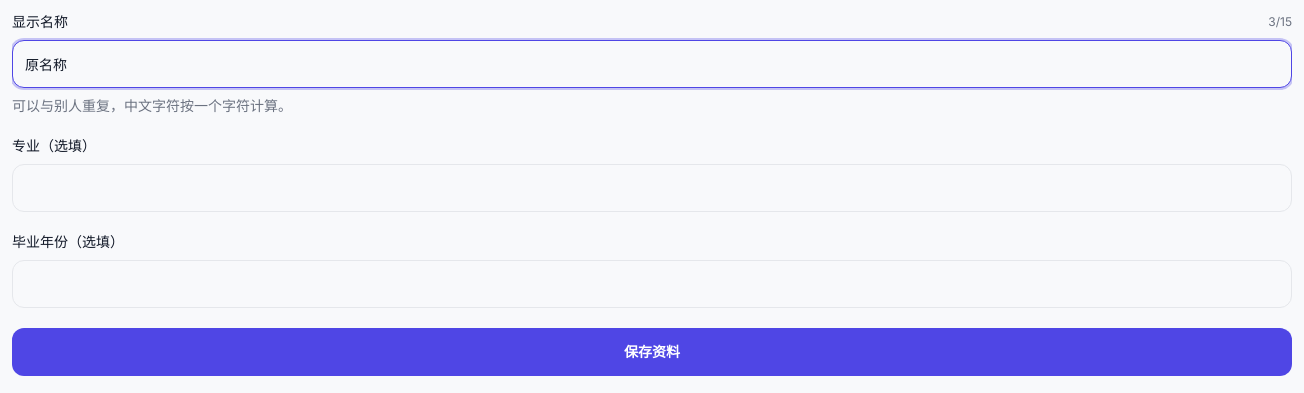
ProfileForm › 提供 15 字即时限制并展示服务端字段错误
Replace the text in the field labelled "显示名称" with "一二三四五六七八九十一二三四五六": (652, 64) [12,40,1292,88]
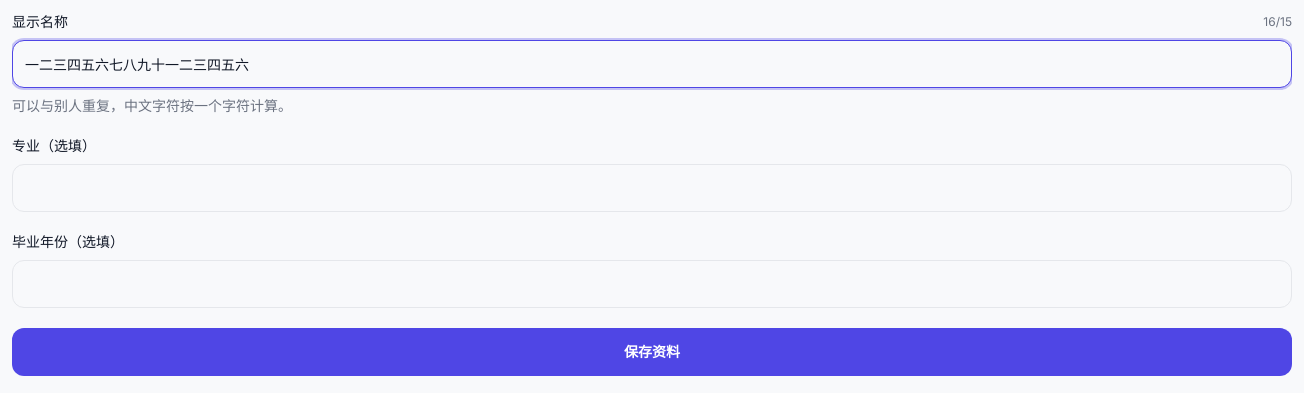
Submit the form
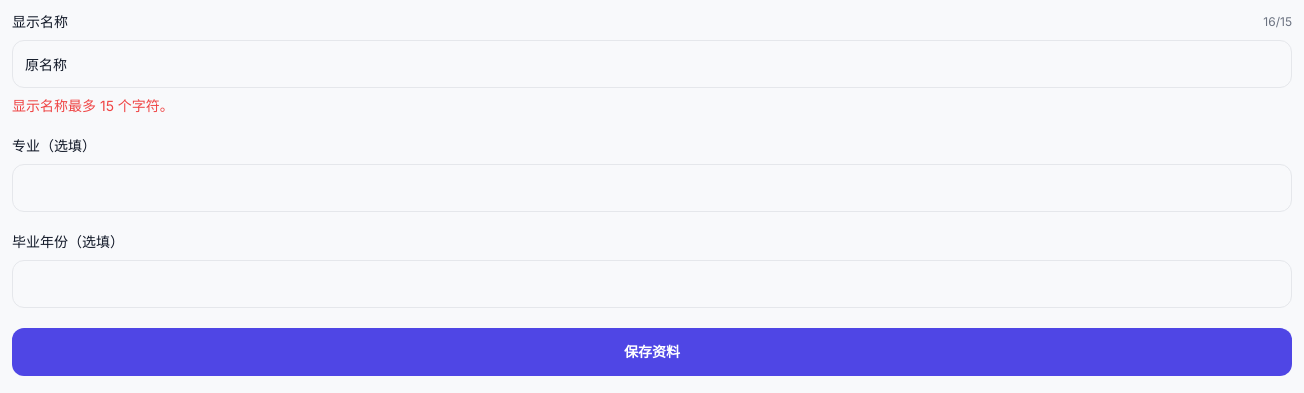
Expected: the text "显示名称最多 15 个字符。" is shown, [12,97,174,114]
